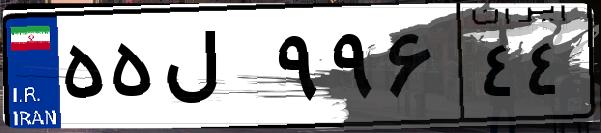4: (475, 38, 525, 113), (525, 38, 570, 115)
5: (57, 26, 110, 100), (110, 28, 158, 98)
6: (385, 28, 445, 110)
9: (270, 28, 330, 110), (330, 28, 385, 110)
ل: (158, 20, 270, 120)
